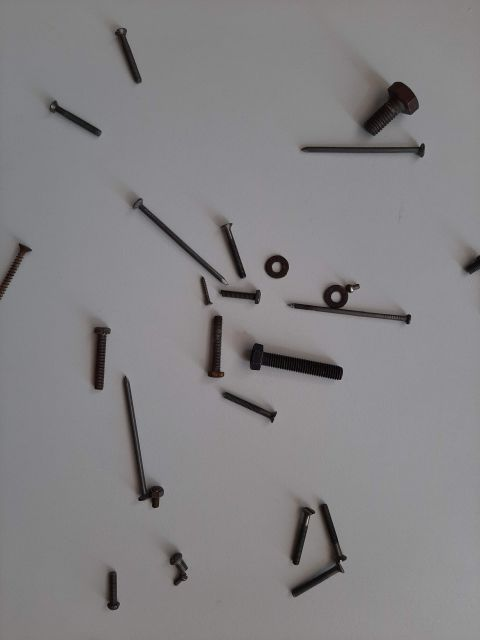gwozdz: (125, 185, 235, 305), (275, 125, 445, 185), (95, 355, 155, 505), (275, 295, 425, 325)
podkladka: (265, 245, 305, 295), (305, 275, 355, 305)
sruba: (235, 325, 355, 385), (95, 5, 155, 95), (65, 305, 125, 395), (355, 65, 415, 155), (35, 75, 105, 135), (305, 495, 365, 565), (185, 305, 235, 385), (215, 385, 275, 445), (265, 555, 355, 595), (205, 215, 245, 295), (275, 495, 305, 565), (215, 275, 275, 305), (155, 535, 215, 565)
